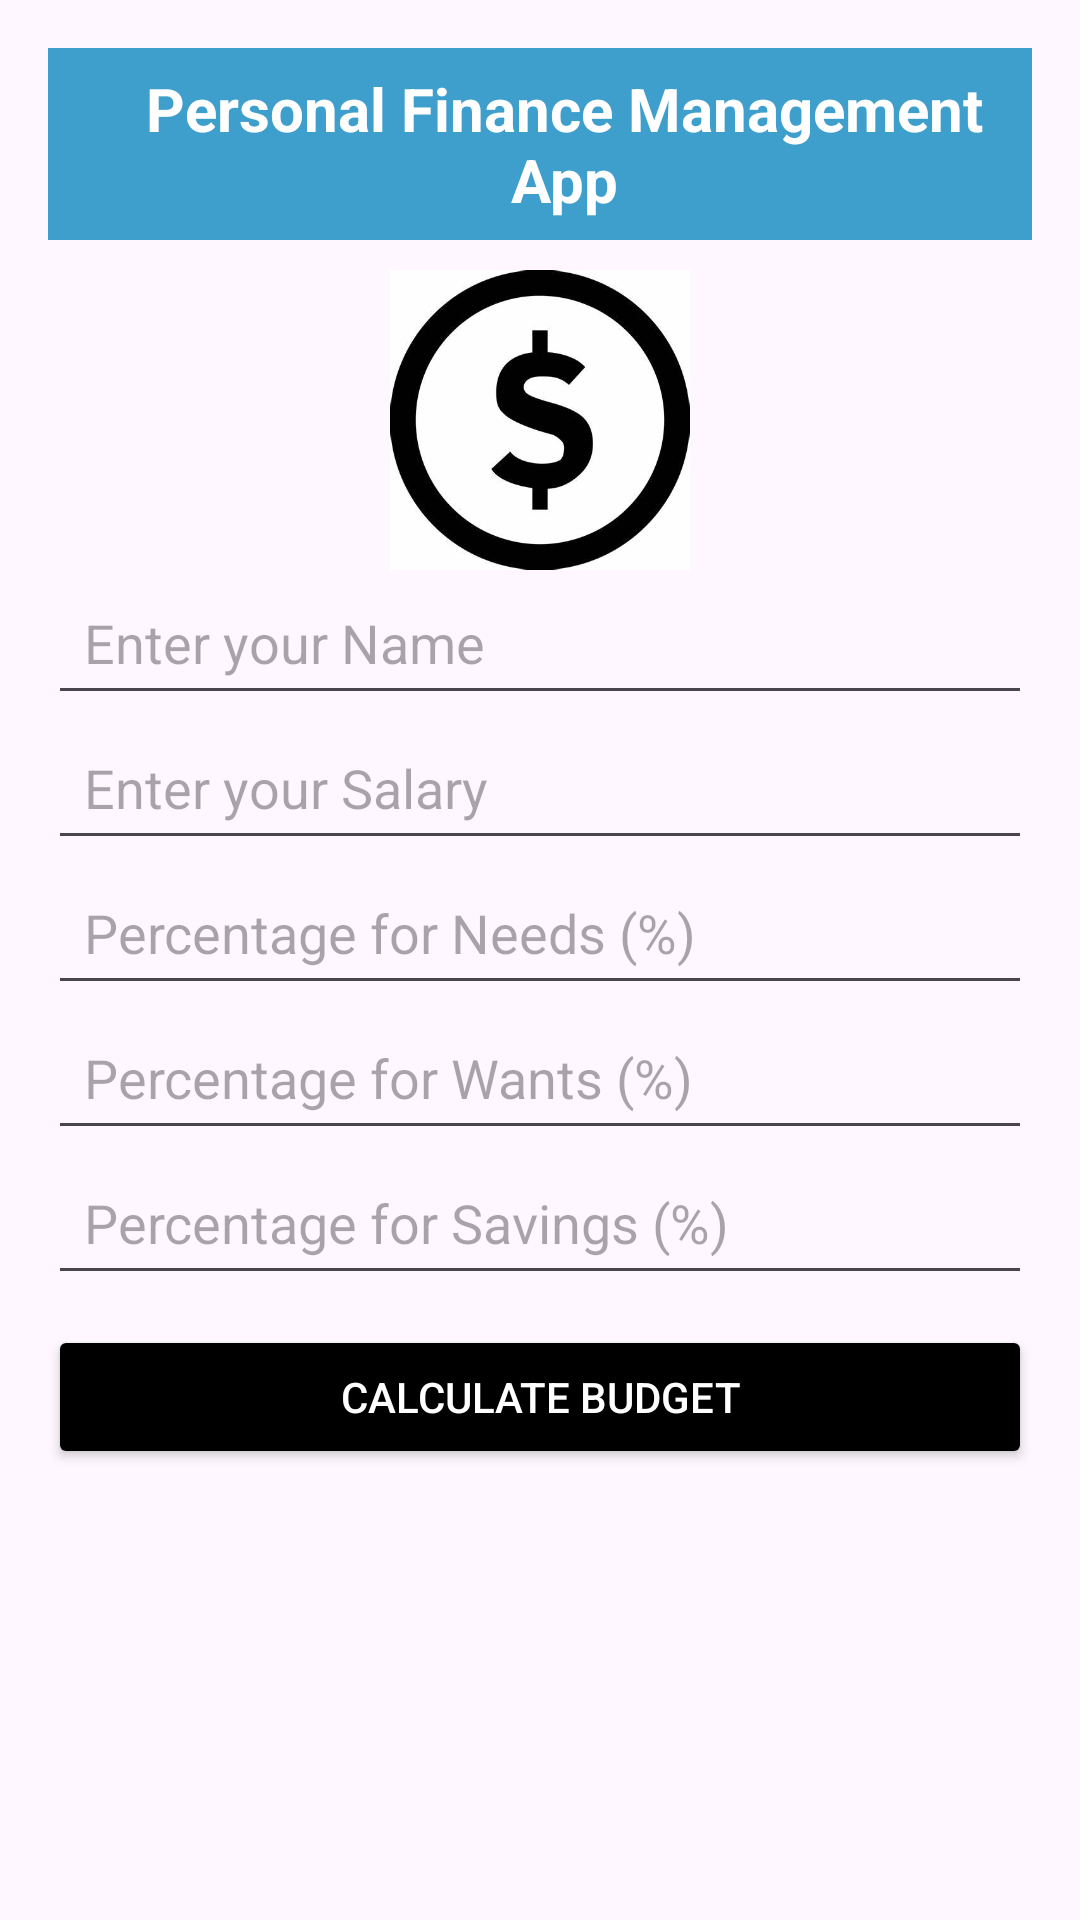

Where icons sit on this 1080w x 1920h app screen, as detection(x1, y1, x2, y2):
dollar: detection(390, 270, 690, 570)
